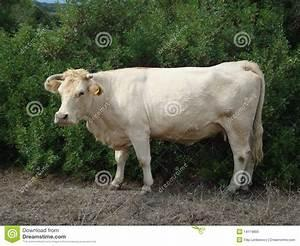cow: (43, 59, 265, 195)
